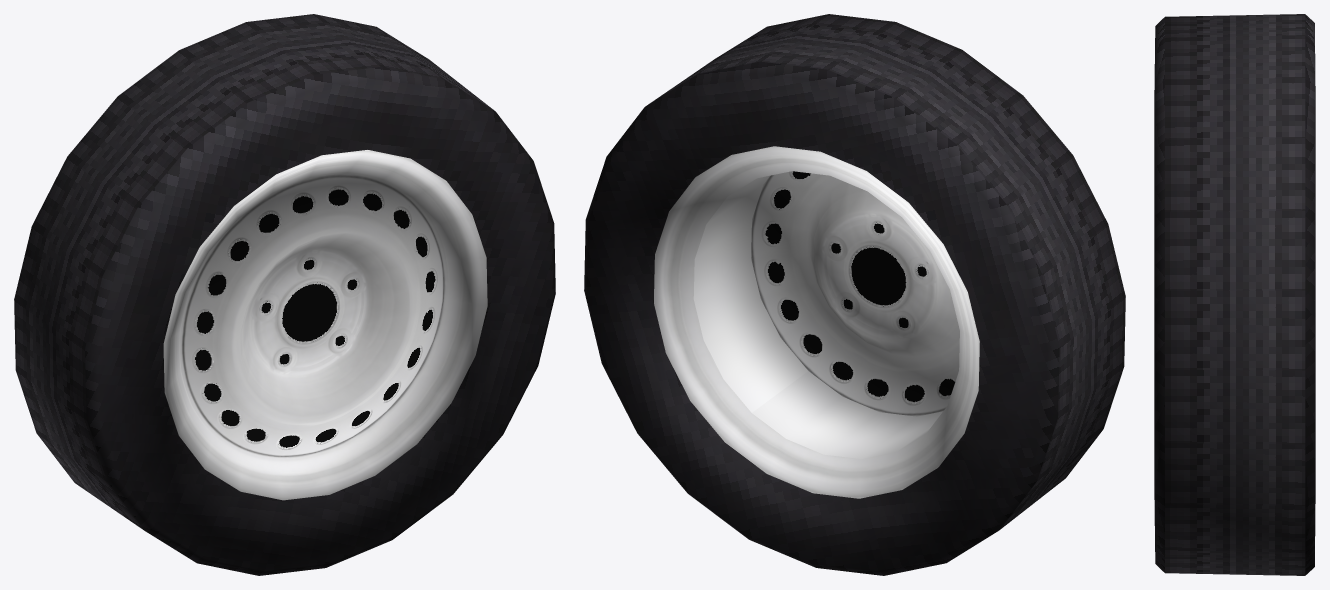
The model's file is lowpoly__wheel.obj.
3 views of the same model, side by side, from view 1: azimuth 30°, elevation 25°; view 2: azimuth 150°, elevation 25°; view 3: azimuth 270°, elevation 25° (orthographic). The views are drawn at different scales.
Parts seen in each view (by area): view 1: Circle001_Tire001_0, Circle001_Disck001_0; view 2: Circle001_Tire001_0, Circle001_Disck001_0; view 3: Circle001_Tire001_0.
Part boxes in pixels (left/top/right/bottom): Circle001_Tire001_0: left=14, top=14, right=555, bottom=575; Circle001_Disck001_0: left=163, top=150, right=487, bottom=500; Circle001_Tire001_0: left=584, top=14, right=1125, bottom=575; Circle001_Disck001_0: left=654, top=146, right=979, bottom=498; Circle001_Tire001_0: left=1154, top=14, right=1315, bottom=575.
Bounding box in the file's own units: 0.4836 × 0.4869 × 0.1387.
Materials: 2 (2 with a texture image).
